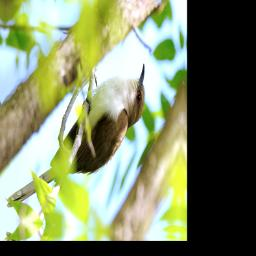Cuckoo: (5, 46, 147, 227)
